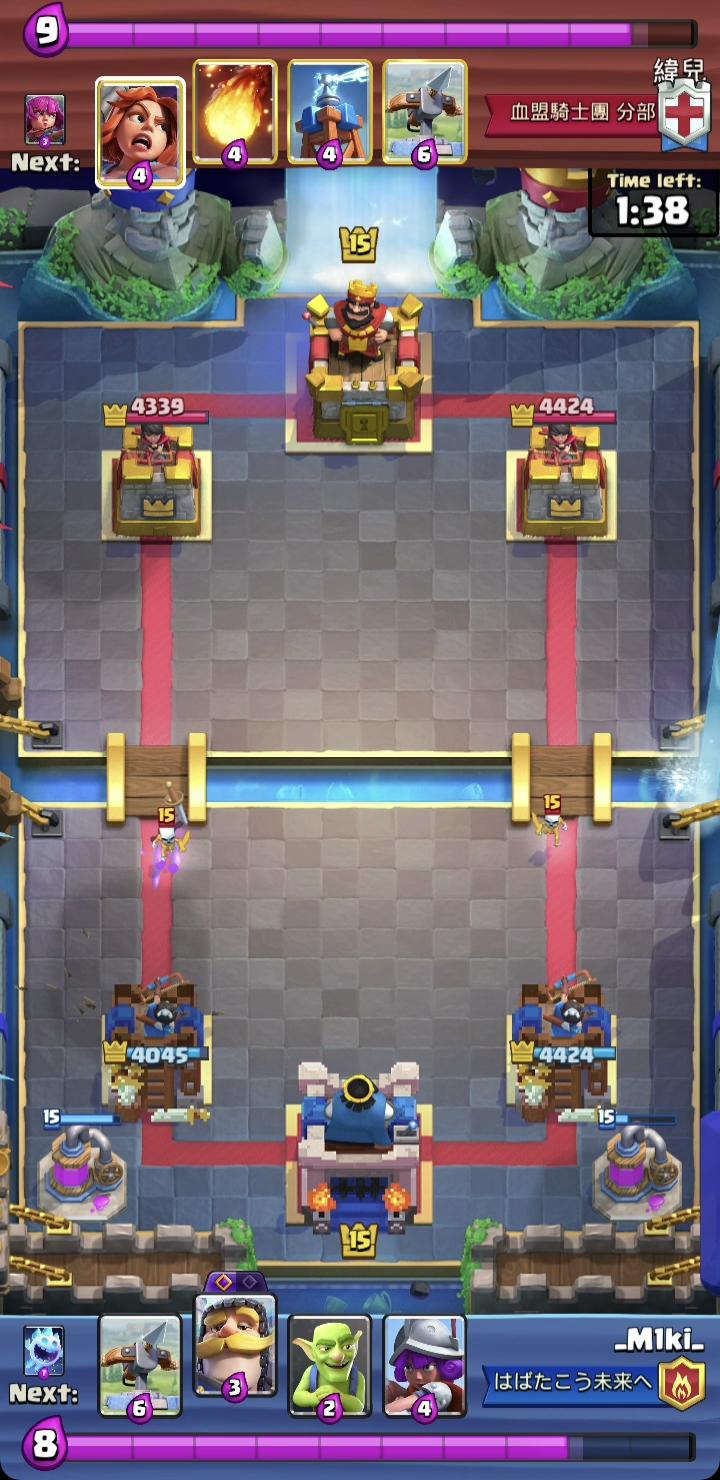ally_elixirpump: (33, 1109, 131, 1226), (591, 1108, 687, 1225)
enemy_skeleton: (150, 804, 192, 867), (532, 793, 569, 845)
